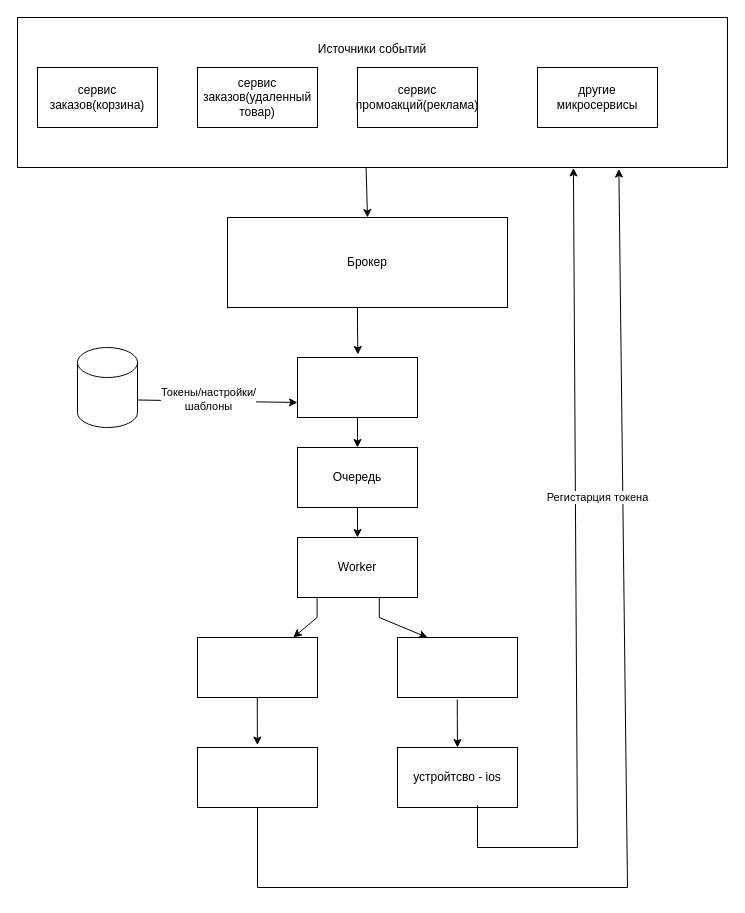
Some shapes in this 745 by 913 pixel diagram are drawn without their labels. The shapes that lost their labels are listed below. From the top down, each one's box as (x1, y1, x2, y2) in pixels, then its label:
(296, 356, 418, 418): Notification Service
(196, 636, 318, 698): Firebase
(396, 636, 518, 698): Apple APN
(196, 746, 318, 808): устройтсво - Android
